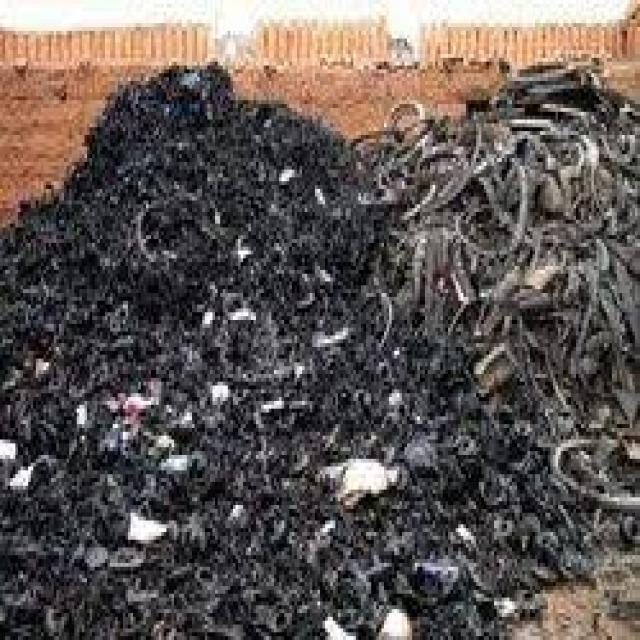Rubber -Non-Biodegradable but Recyclable-: (0, 75, 637, 640)
